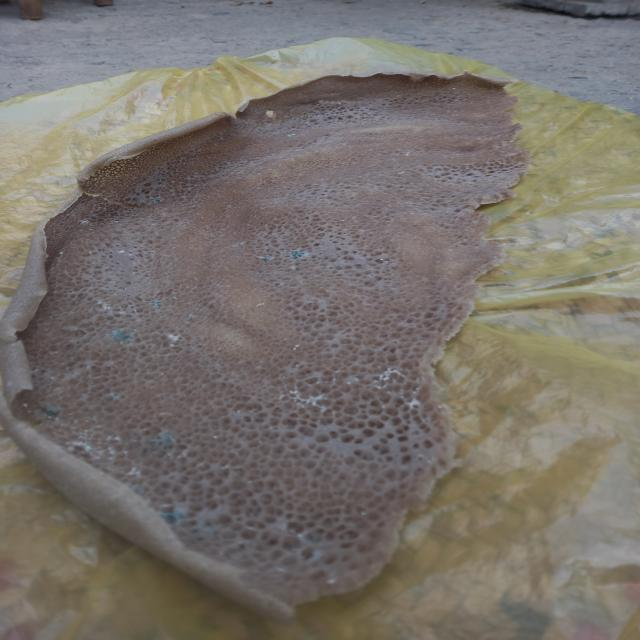injera_mold: (53, 426, 128, 464), (274, 388, 329, 411), (371, 365, 408, 388), (147, 432, 179, 452), (106, 326, 138, 344), (192, 521, 218, 541), (156, 506, 187, 522), (37, 404, 61, 420), (299, 547, 325, 561), (123, 466, 145, 478), (121, 483, 144, 494), (164, 333, 182, 347), (400, 396, 422, 407), (94, 299, 111, 313), (105, 391, 122, 402), (304, 534, 322, 544), (287, 250, 307, 259), (232, 240, 250, 249), (255, 255, 277, 262), (76, 218, 91, 225), (150, 196, 164, 203), (290, 344, 302, 351), (187, 312, 197, 320), (255, 302, 266, 308), (326, 578, 336, 584), (150, 301, 162, 306), (118, 310, 128, 316), (286, 133, 296, 138), (292, 266, 298, 271), (118, 250, 125, 254), (128, 253, 134, 256)
